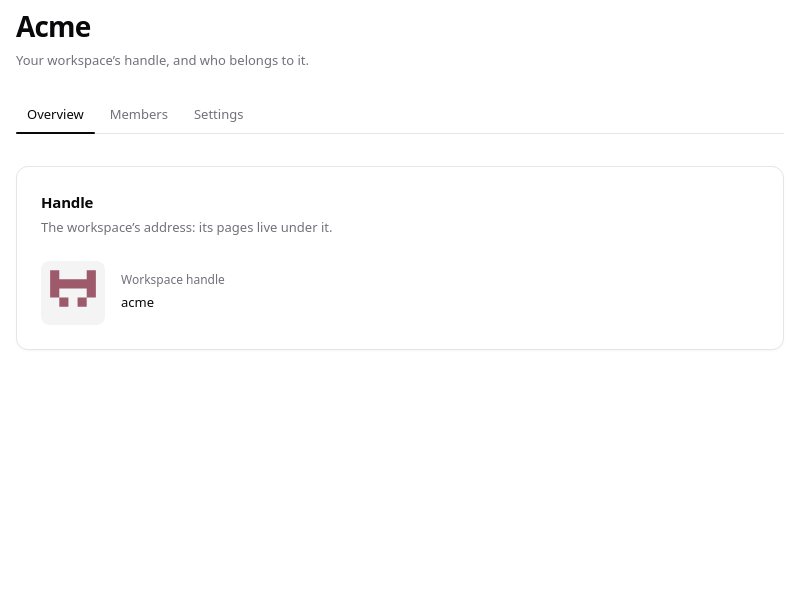
Scenario: an owner can be removed once there are two
The width and height of the screenshot is (801, 592).
Press the mouse on the tab "Members" at (139, 114), box [99,98,179,130]
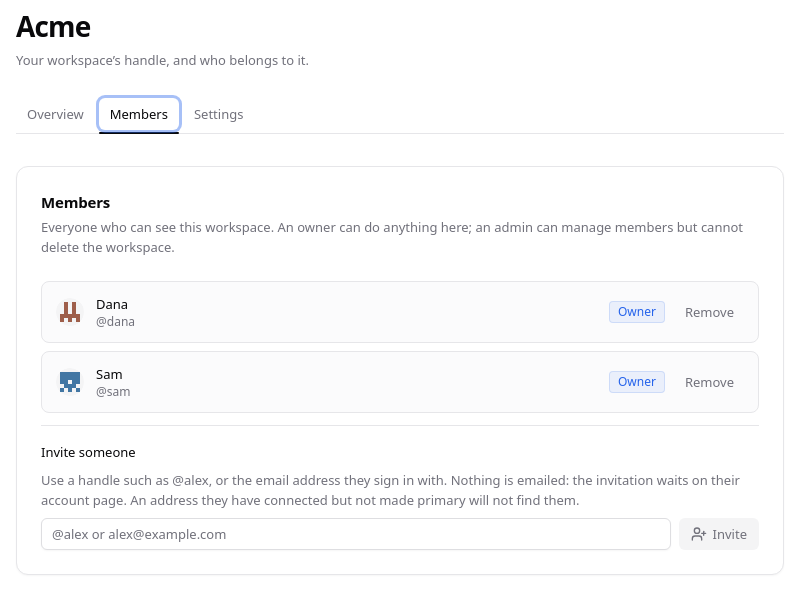
Expected: the text "Dana" is shown, [96,295,128,313]
Expected: the button "Remove" in the row of "@dana" is enabled, [675,298,744,326]
Expected: the button "Remove" in the row of "@sam" is enabled, [675,368,744,396]
